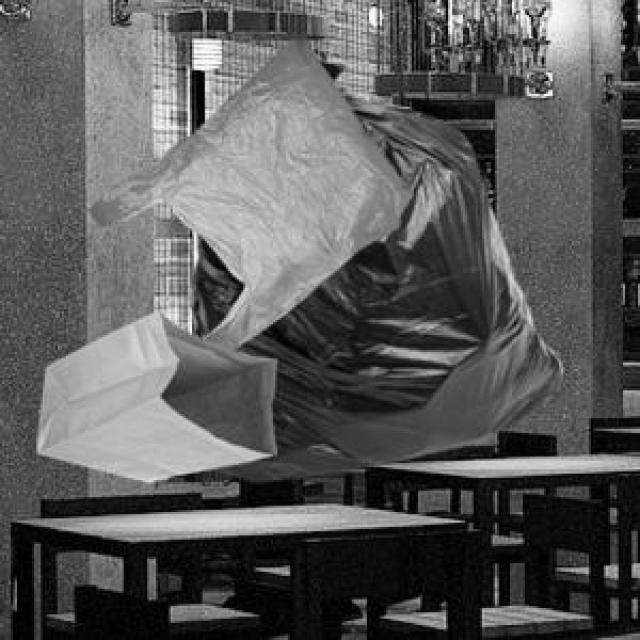miscellaneous trash: (188, 49, 557, 478)
paper: (34, 307, 273, 478)
